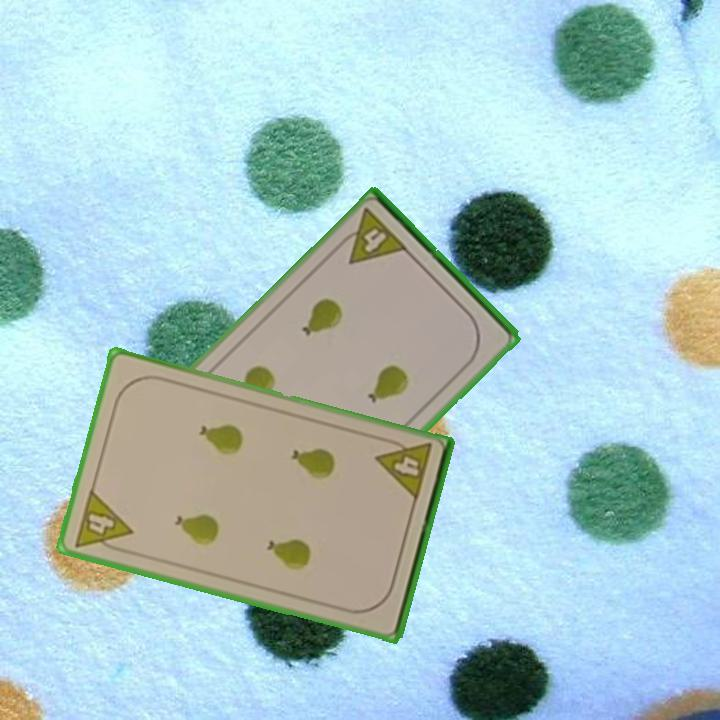4p: (332, 205, 411, 268), (70, 486, 135, 557), (372, 434, 435, 504)
